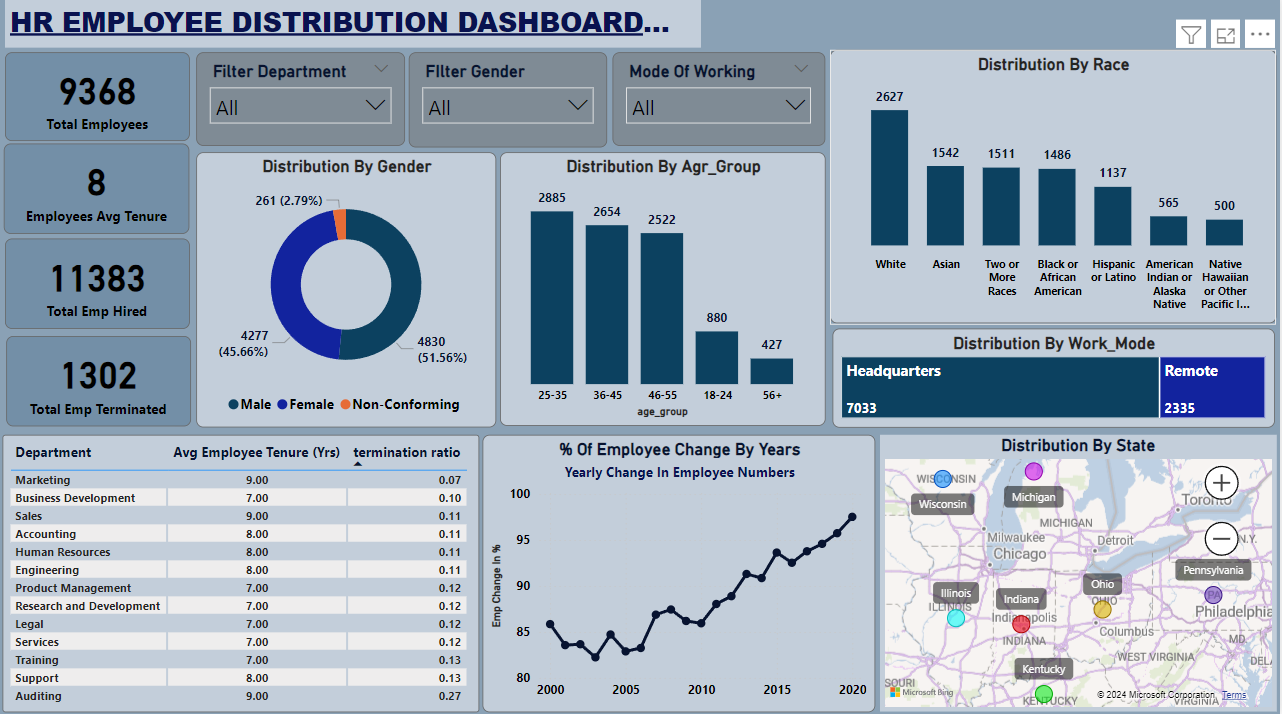

The page's visual inventory and layout, read from the dashboard file:
{"tool":"powerbi","page":{"name":"Page 1","canvas":[1280,720],"ordinal":0},"visuals":[{"type":"textbox","box":[5,1,696.2,50],"z":0},{"type":"card","fields":{"Values":["Sum(Avg_yrs_employment.avg_yrs_employment)"]},"box":[4,148,185.8,90],"z":1000},{"type":"tableEx","fields":{"Values":["avg_emp_tenure.department","avg_emp_tenure.avg_emp_tenure","dept_termination_rate.term_ratio"]},"box":[3,439.1,477,277.5],"z":2000},{"type":"donutChart","title":"Distribution By Gender","fields":{"Category":["gender.gender"],"Y":["Sum(gender.count(*))"]},"box":[196.2,156.2,300,275],"z":3000},{"type":"columnChart","title":"Distribution By Race","fields":{"Category":["race wise dist.race"],"Y":["Sum(race wise dist.count)"]},"box":[830,54.3,446,273.9],"z":4000},{"type":"card","fields":{"Values":["Sum(gender.count(*))"]},"box":[4.8,56,185,89],"z":5000},{"type":"treemap","title":"Distribution By Work_Mode","fields":{"Values":["Sum(Location_Distribution.count)"],"Group":["Location_Distribution.location"]},"box":[832,333,442,99],"z":6000},{"type":"lineChart","title":"% Of Employee Change By Years","fields":{"Category":["Year_Wise_Emp_Count_Change.year"],"Y":["Sum(Year_Wise_Emp_Count_Change.net_percent_change)"]},"box":[482,439.1,393,277.5],"z":7000},{"type":"map","title":"Distribution By State","fields":{"Category":["location_state Dist.location_state"],"Series":["location_state Dist.count"]},"box":[879.6,439.1,396.6,277.2],"z":8000},{"type":"clusteredColumnChart","title":"Distribution By Agr_Group","fields":{"Category":["age_group.age_group"],"Y":["Sum(age_group.count)"]},"box":[499.5,156.8,325.7,273.9],"z":9000},{"type":"card","fields":{"Values":["Sum(dept_termination_rate.total_count)"]},"box":[4.8,243,184.6,90.5],"z":10000},{"type":"card","fields":{"Values":["Sum(dept_termination_rate.term_count)"]},"box":[6,340.2,184.6,90.5],"z":11000},{"type":"slicer","fields":{"Values":["department_gender_dist.department"]},"box":[196.2,56.2,208.8,93.8],"z":12000},{"type":"slicer","fields":{"Values":["Age_group Gender dist.gender"]},"box":[408.8,56.2,198.8,95],"z":13000},{"type":"slicer","fields":{"Values":["Location_Distribution.location"]},"box":[612.5,56.2,212.5,93.8],"z":14000}]}

Visuals, with their boxes in screenshot pixels (x1, y1, x2, y2), scaled from the page's 1280x720 canvas onto the 1282x714 screenshot:
textbox: (5, 1, 702, 51)
card - Sum(Avg_yrs_employment.avg_yrs_employment): (4, 147, 190, 236)
tableEx - avg_emp_tenure.department x avg_emp_tenure.avg_emp_tenure: (3, 435, 481, 711)
"Distribution By Gender" donutChart: (197, 155, 497, 428)
"Distribution By Race" columnChart: (831, 54, 1278, 325)
card - Sum(gender.count(*)): (5, 56, 190, 144)
"Distribution By Work_Mode" treemap: (833, 330, 1276, 428)
"% Of Employee Change By Years" lineChart: (483, 435, 876, 711)
"Distribution By State" map: (881, 435, 1278, 710)
"Distribution By Agr_Group" clusteredColumnChart: (500, 155, 826, 427)
card - Sum(dept_termination_rate.total_count): (5, 241, 190, 331)
card - Sum(dept_termination_rate.term_count): (6, 337, 191, 427)
slicer - department_gender_dist.department: (197, 56, 406, 149)
slicer - Age_group Gender dist.gender: (409, 56, 609, 150)
slicer - Location_Distribution.location: (613, 56, 826, 149)
